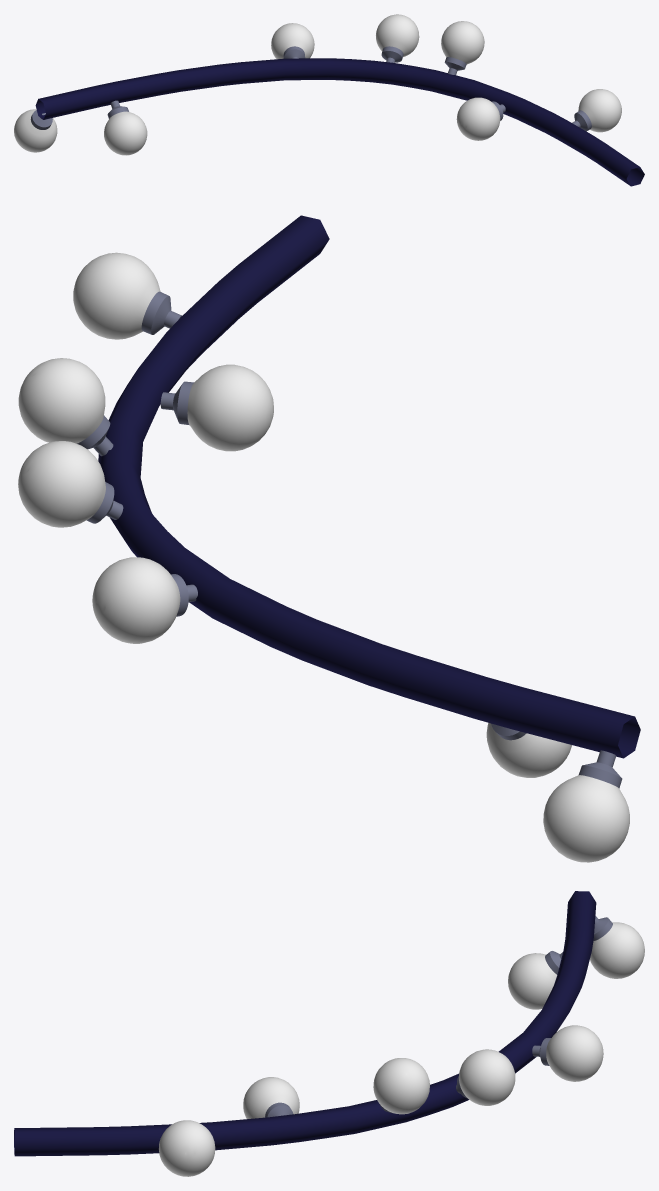
The model's file is Guirlande courbe.fbx.
3 views of the same model, one above another, from view 1: azimuth 30°, elevation 25°; view 2: azimuth 150°, elevation 25°; view 3: azimuth 270°, elevation 25° (orthographic). The views are drawn at different scales.
Visible parts, largest first — view 1: BézierCurve; view 2: BézierCurve; view 3: BézierCurve.
Boxes of the visible parts, <box> form: BézierCurve: <box>14,14,644,186</box>; BézierCurve: <box>18,215,640,862</box>; BézierCurve: <box>14,891,644,1176</box>.
Bounding box in the file's own units: 222 × 232 × 52.54.
